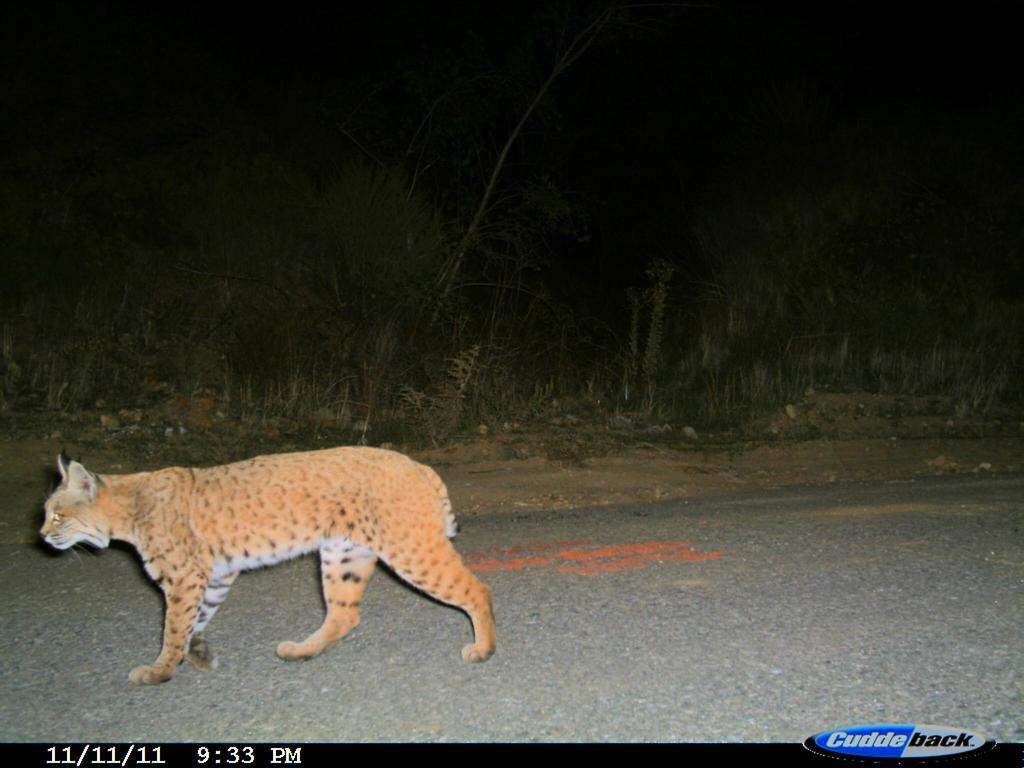bobcat: (33, 434, 520, 689)
